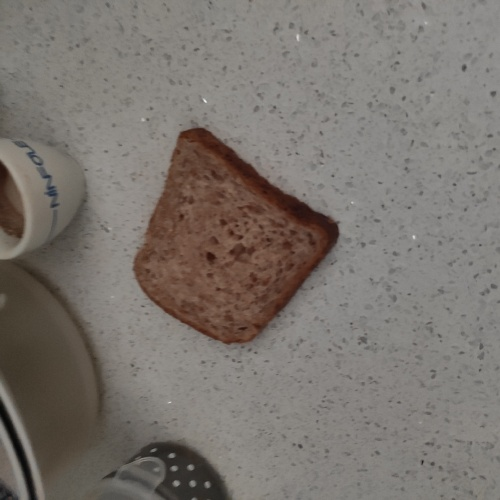pane: (132, 120, 347, 348)
